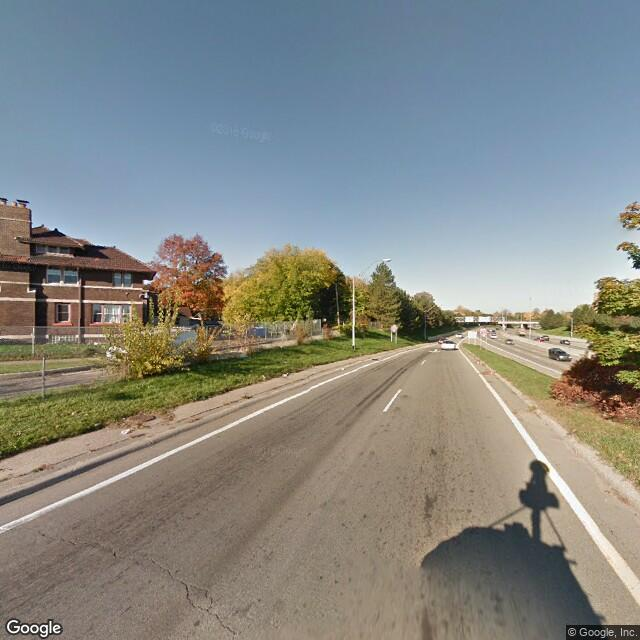litter: (65, 412, 88, 418), (123, 424, 132, 438), (174, 368, 193, 372), (280, 373, 290, 380)
